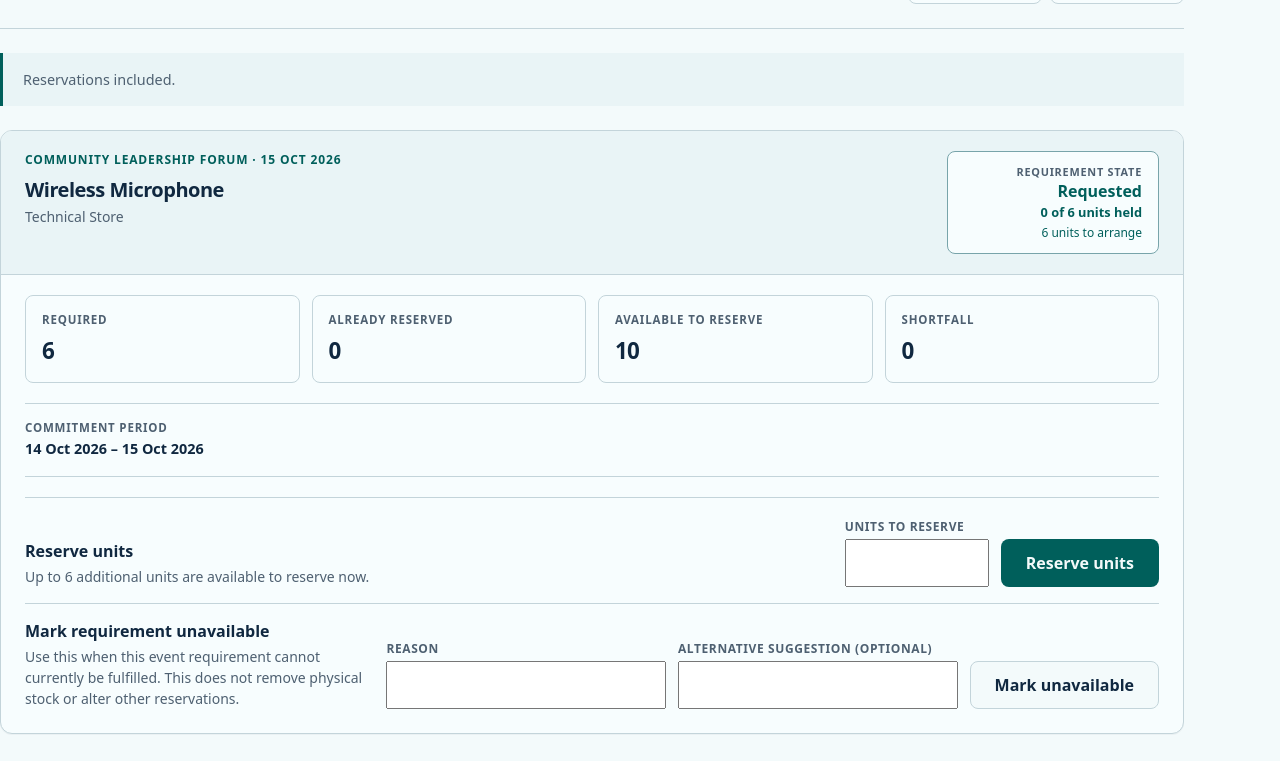
[TC-SPL-97-06] offers Technical Support an inline reserve control bounded by current availability
Type "7" into the number field labelled "Units to reserve" at (917, 563), box [845,539,989,587]
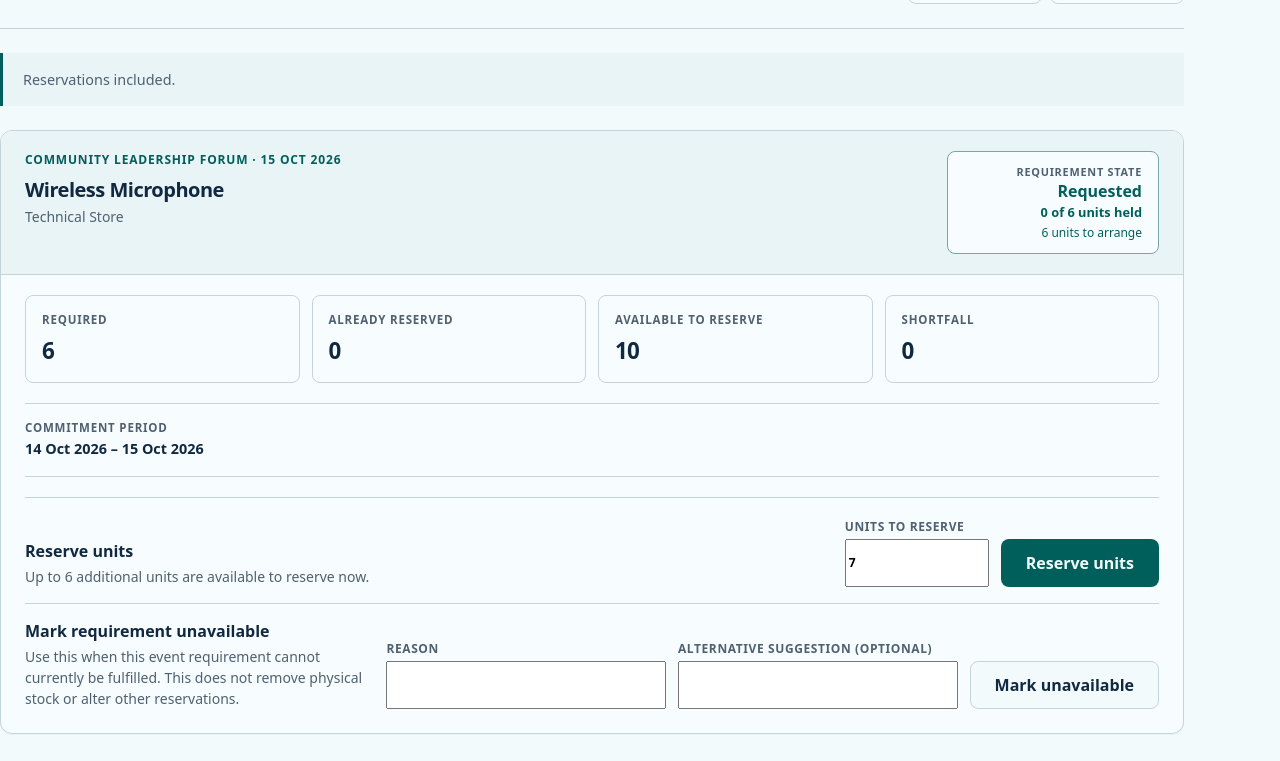
Click the button "Reserve units" at (1080, 563), box [1001,539,1159,587]
(page scrolled)
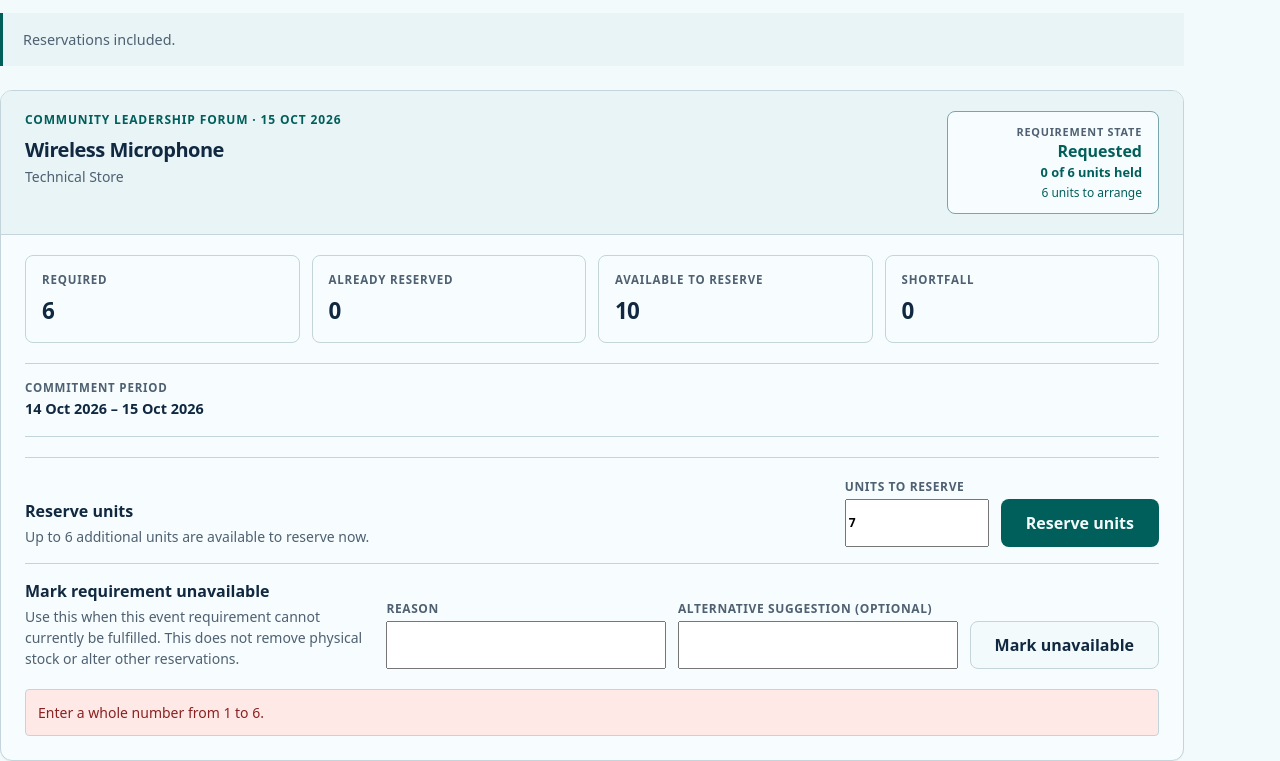
Expected: the message "Enter a whole number from 1 to 6." is shown, [25,689,1159,736]
